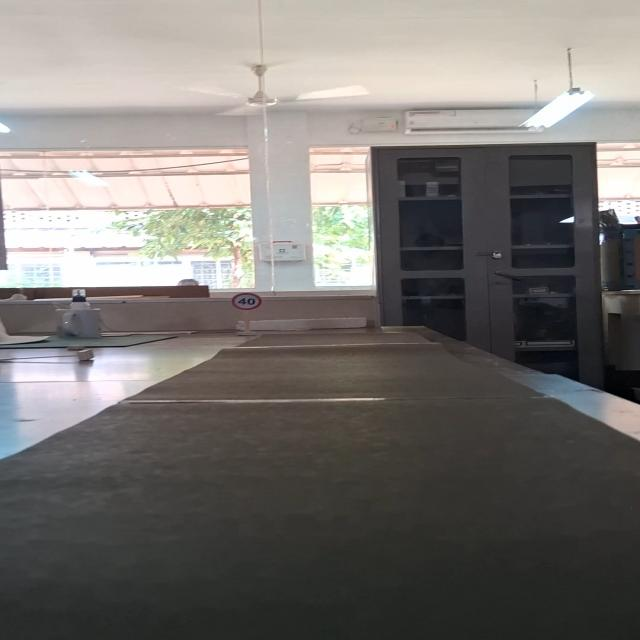Speed40: (230, 292, 263, 311)
